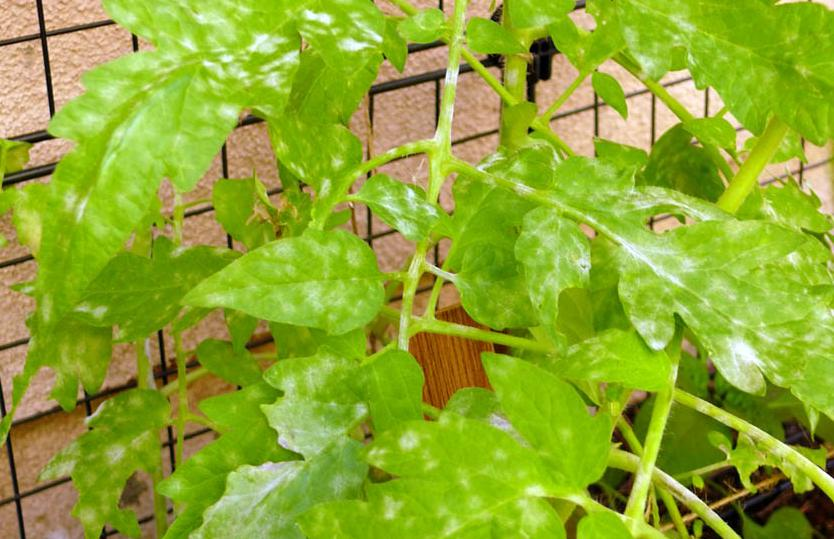Tomato mold leaf: (0, 0, 329, 454), (519, 154, 834, 465), (285, 351, 624, 539), (569, 0, 834, 129), (157, 226, 404, 331), (368, 173, 460, 244)
